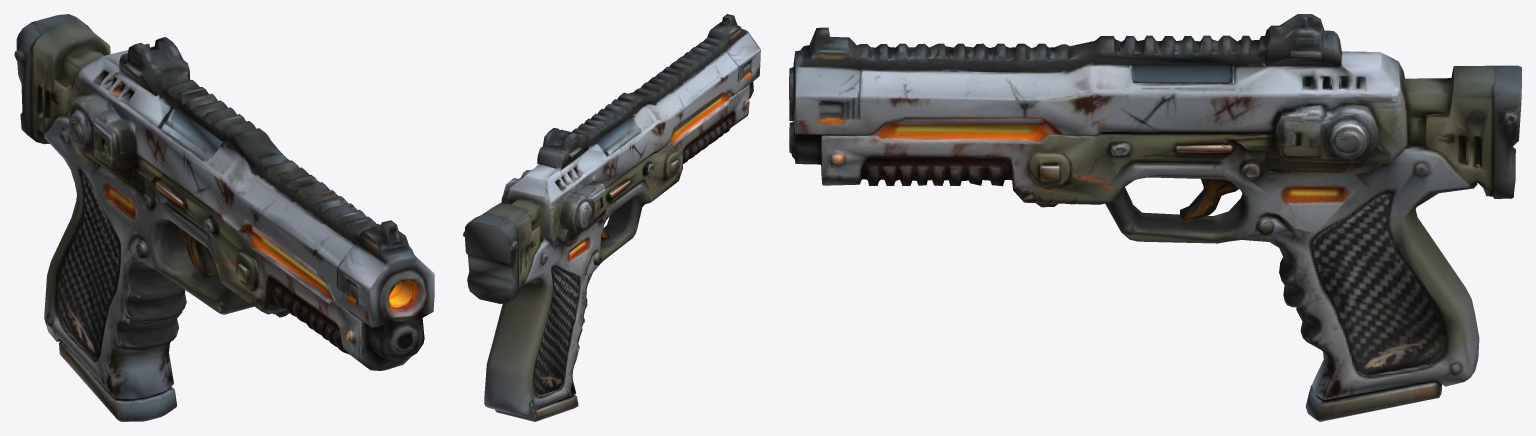
Rendered from PISTOLET3.glb.
3 renders of one model, left to right at view 1: azimuth 30°, elevation 25°; view 2: azimuth 150°, elevation 25°; view 3: azimuth 270°, elevation 25°, orthographic. The views are drawn at different scales.
Parts seen in each view (by area): view 1: node_0; view 2: node_0; view 3: node_0.
Boxes of the visible parts, left/top/right/bottom form: node_0: left=14, top=14, right=434, bottom=421; node_0: left=463, top=14, right=760, bottom=421; node_0: left=789, top=14, right=1521, bottom=421.
Size of the model in its own units: 0.2042 by 0.6422 by 1.1.
Materials: 1 (1 with a texture image).
